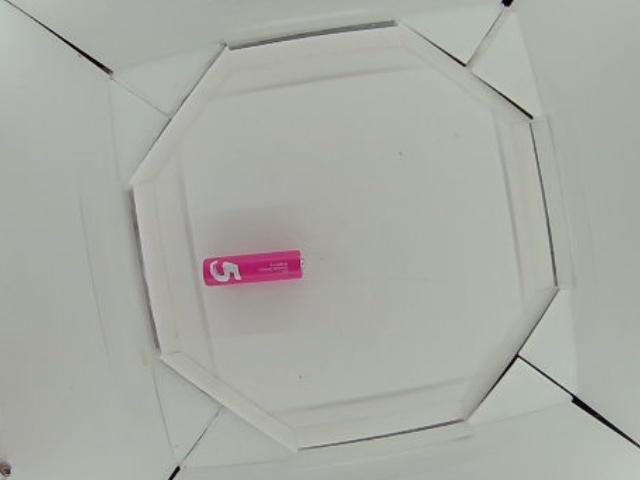Battery: (200, 252, 305, 285)
